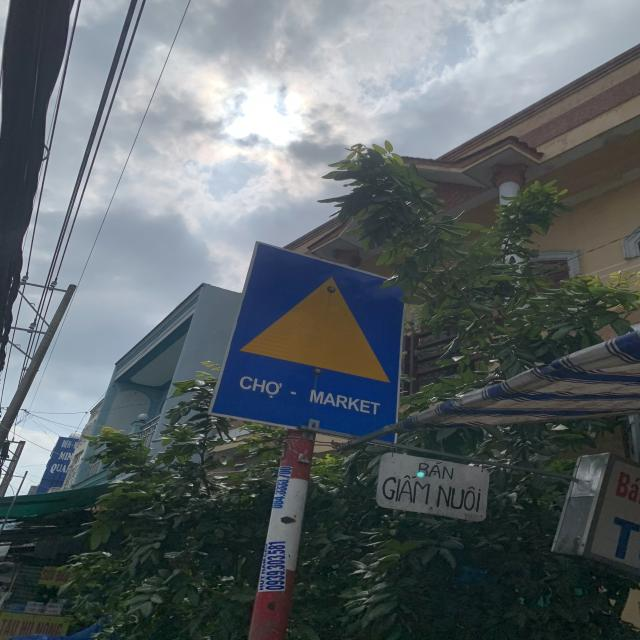Cho_Quay_Xe: (208, 238, 398, 446)
